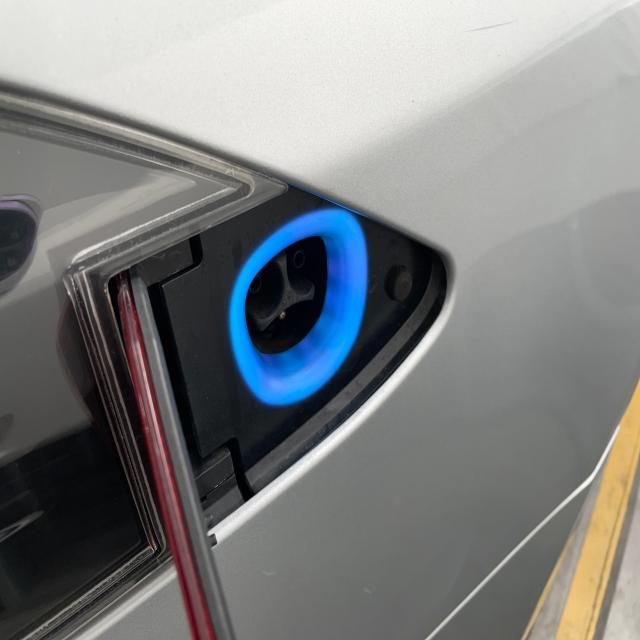Tesla Model-S-: (200, 176, 390, 463)
